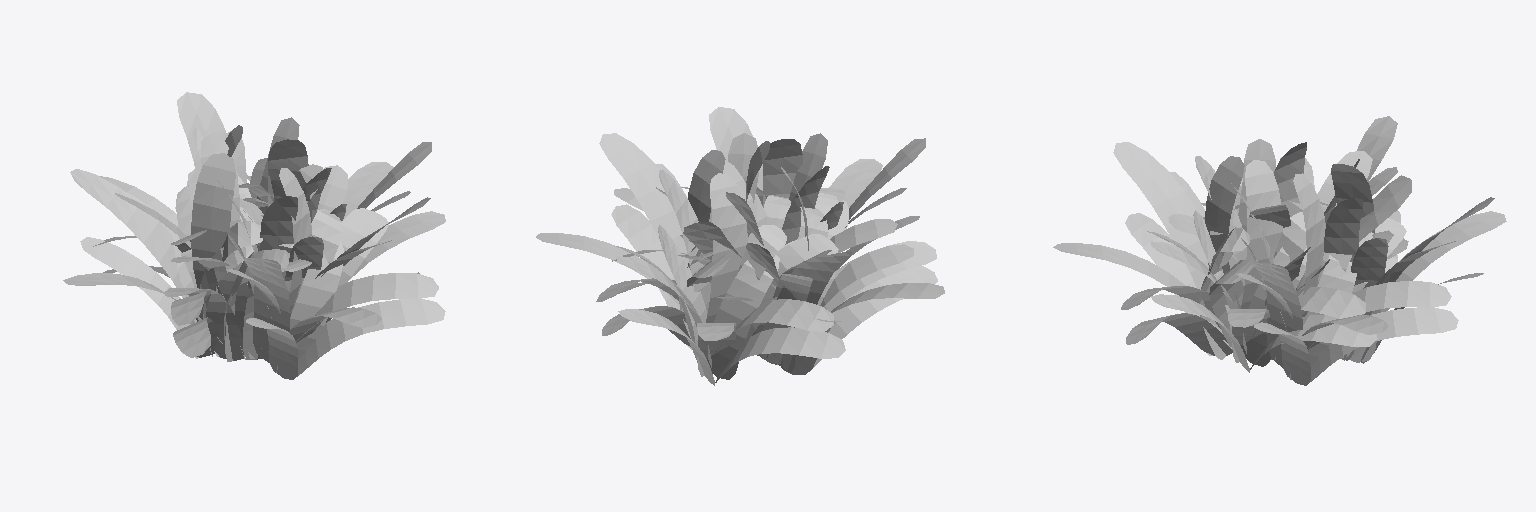
Rendered from Трава.obj.
3 renders of one model, left to right at view 1: azimuth 30°, elevation 25°; view 2: azimuth 150°, elevation 25°; view 3: azimuth 270°, elevation 25°, orthographic.
Visible parts, largest first — view 1: Grass_1.001_Plane.008, Grass_1.005_Plane.013, Grass_1_Plane, Grass_1.003_Plane.011, Grass_1.006_Plane.014, Grass_1.004_Plane.012; view 2: Grass_1.006_Plane.014, Grass_1.004_Plane.012, Grass_1.005_Plane.013, Grass_1.001_Plane.008, Grass_1_Plane, Grass_1.003_Plane.011; view 3: Grass_1.001_Plane.008, Grass_1.004_Plane.012, Grass_1.003_Plane.011, Grass_1.006_Plane.014, Grass_1_Plane, Grass_1.005_Plane.013.
Boxes of the visible parts, x1,y1,x2,y2 form: Grass_1.001_Plane.008: [217, 168, 445, 379]; Grass_1.005_Plane.013: [63, 134, 289, 358]; Grass_1_Plane: [115, 126, 347, 361]; Grass_1.003_Plane.011: [240, 162, 445, 322]; Grass_1.006_Plane.014: [93, 92, 299, 277]; Grass_1.004_Plane.012: [188, 139, 431, 221]; Grass_1.006_Plane.014: [616, 170, 845, 385]; Grass_1.004_Plane.012: [536, 133, 758, 349]; Grass_1.005_Plane.013: [726, 167, 944, 374]; Grass_1.001_Plane.008: [681, 138, 925, 269]; Grass_1_Plane: [656, 160, 913, 365]; Grass_1.003_Plane.011: [612, 107, 827, 293]; Grass_1.001_Plane.008: [1053, 139, 1275, 359]; Grass_1.004_Plane.012: [1231, 173, 1458, 385]; Grass_1.003_Plane.011: [1147, 156, 1377, 372]; Grass_1.006_Plane.014: [1290, 164, 1506, 363]; Grass_1_Plane: [1168, 151, 1411, 359]; Grass_1.005_Plane.013: [1201, 116, 1397, 222].
Size of the model in its own units: 0.1898 by 0.1001 by 0.203.